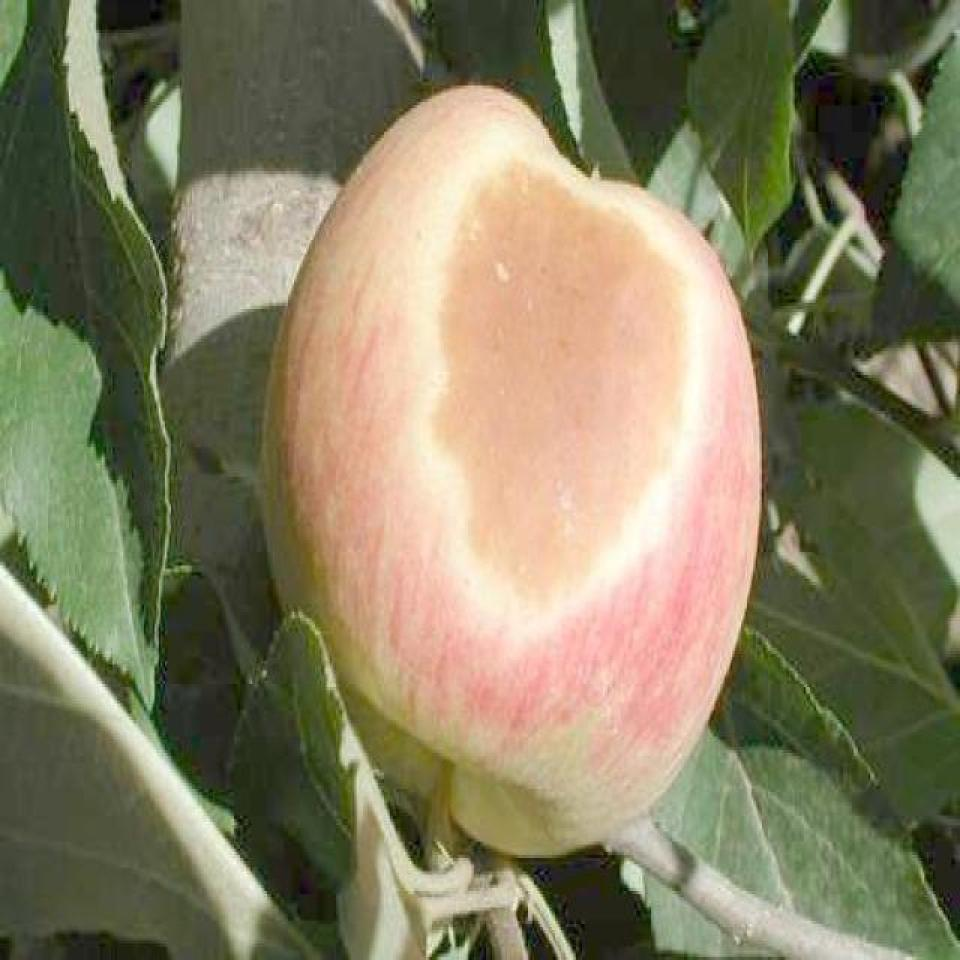Sunscald: (406, 113, 700, 640)
